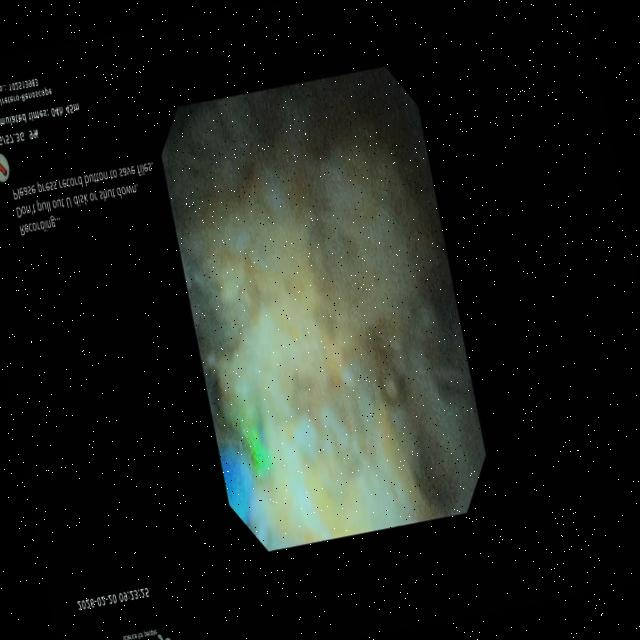stone-new: (162, 70, 485, 551)
